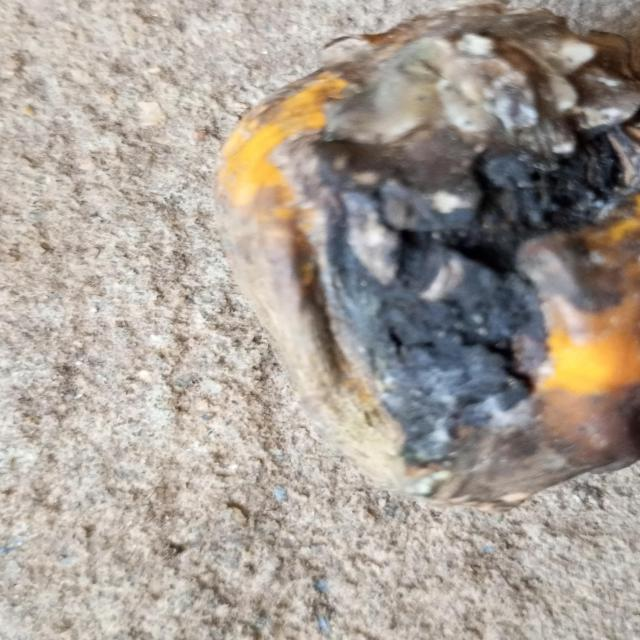damaged: (216, 2, 640, 509)
